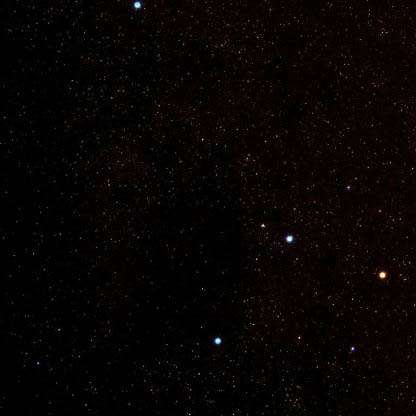Southern Cross: (272, 227, 299, 252), (205, 330, 229, 353), (369, 262, 390, 286), (345, 338, 365, 358)
